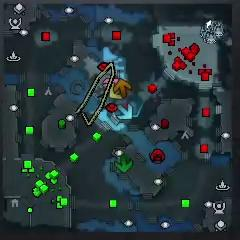x1: (103, 77, 118, 84)
x2: (109, 83, 123, 102)
x3: (116, 103, 132, 121)
x4: (115, 154, 133, 173)
x5: (115, 79, 132, 98)
